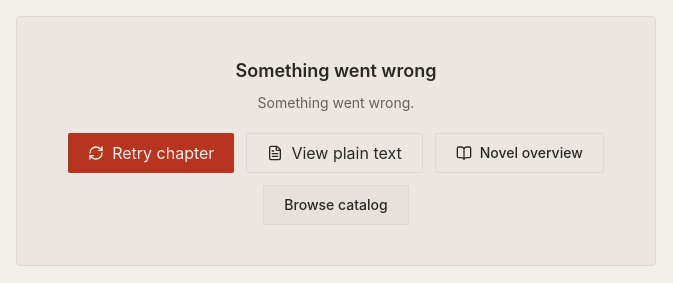
ReaderErrorBoundary recovery (REQ-6, AC-6) › explains when plain text is unavailable
The width and height of the screenshot is (673, 283).
Click the button "View plain text". click: (335, 153)
box: [246,133,423,173]
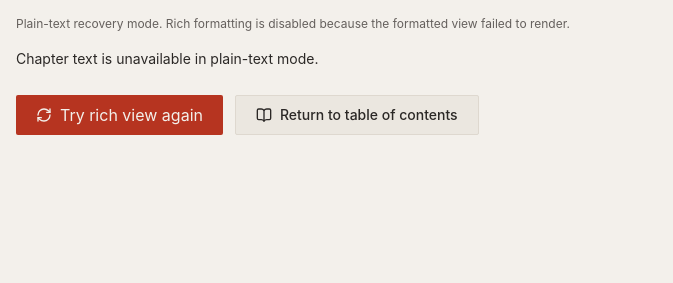
Expected: the text "Chapter text is unavailable in plain-text mode." is shown, [16,50,318,67]
